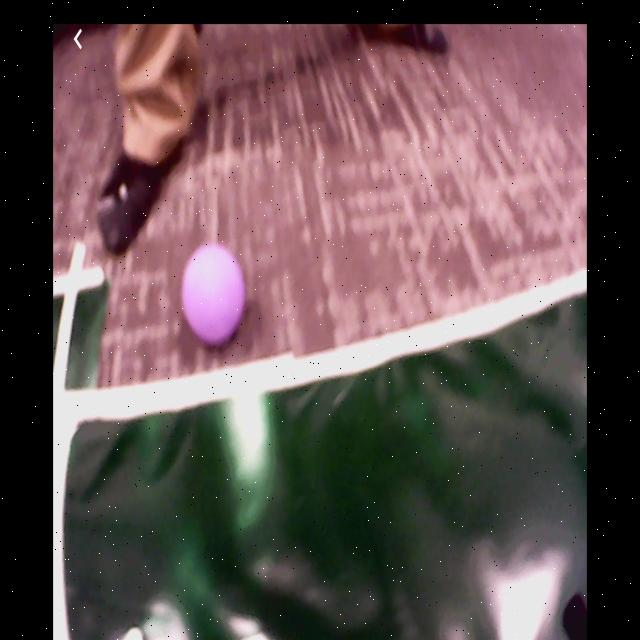ball: (184, 245, 246, 344)
